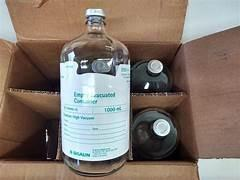Iv_Bottle: (60, 9, 129, 175), (132, 108, 178, 159), (131, 59, 172, 92)
